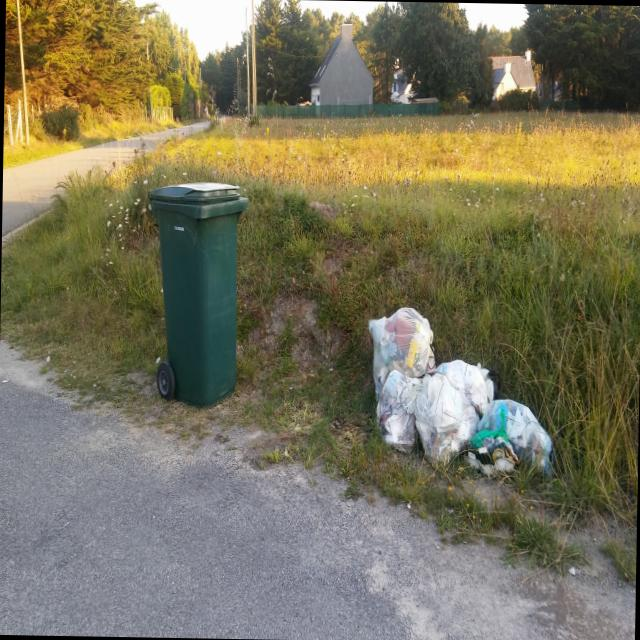garbage: (349, 298, 564, 496)
